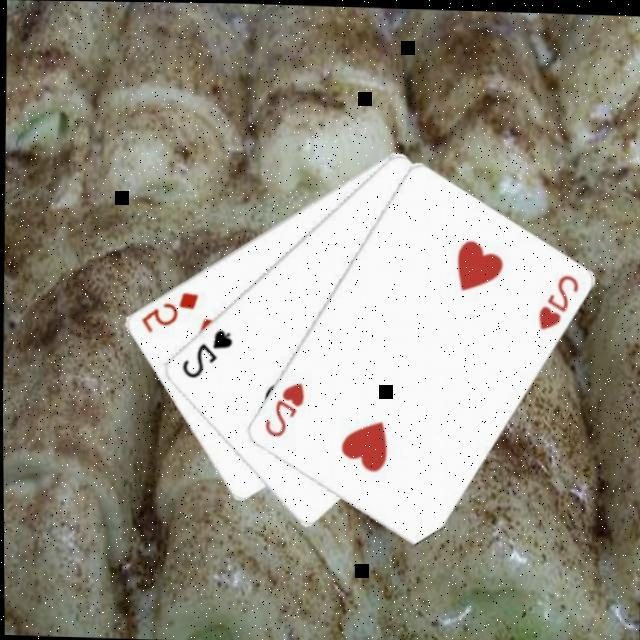2H: (533, 266, 582, 331), (260, 374, 307, 438)
2S: (177, 322, 235, 380)
5D: (136, 285, 201, 335)
